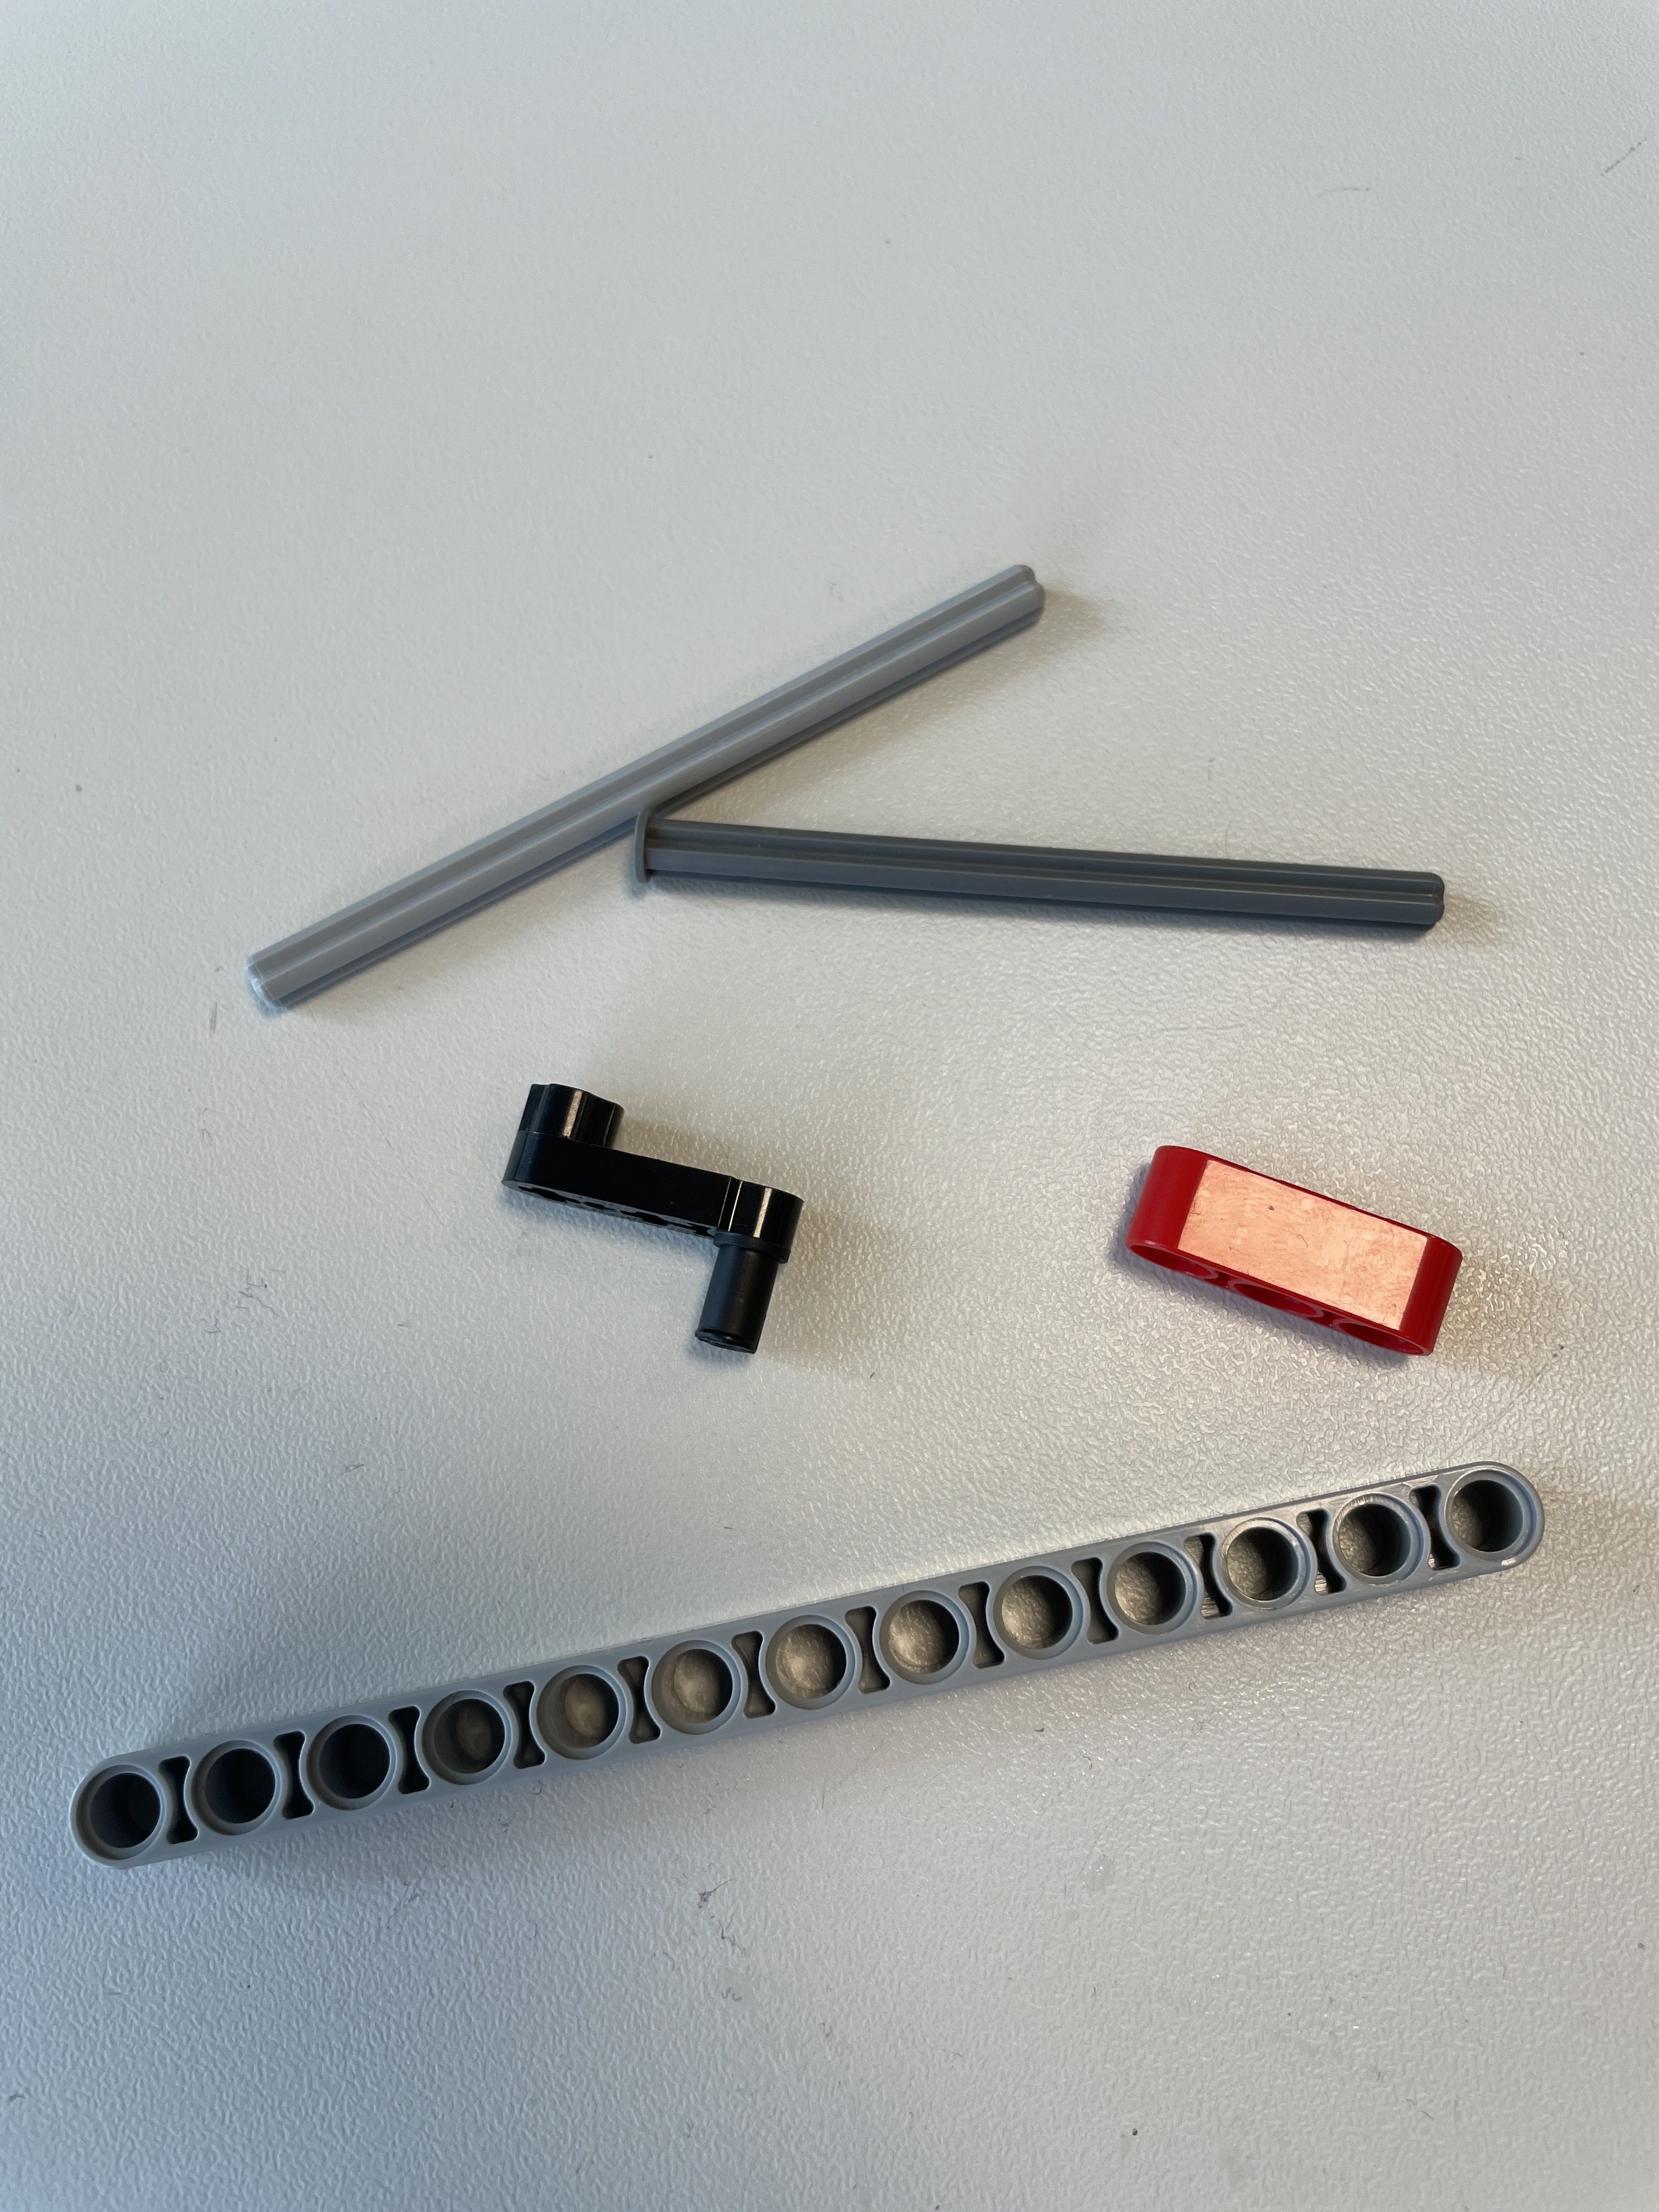13gat: (63, 1453, 1561, 1881)
3gat: (1107, 1137, 1471, 1372)
plusstaaf: (230, 561, 1037, 1024)
plusstaafdicht: (626, 786, 1455, 944)
verbindstukzwart: (495, 1066, 816, 1371)
